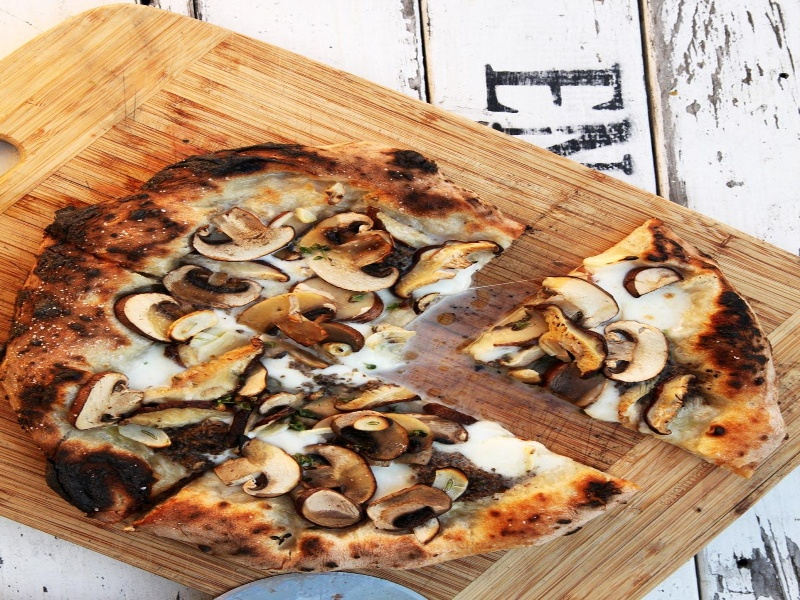champignon: (295, 211, 409, 295), (183, 204, 300, 265), (211, 435, 308, 505), (365, 479, 460, 550), (599, 313, 676, 394), (153, 264, 272, 315), (66, 368, 150, 439)
